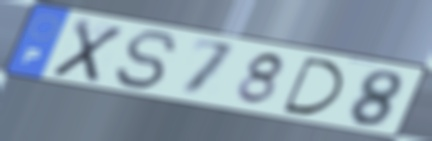7: (183, 36, 237, 99)
8: (349, 69, 405, 129), (232, 52, 285, 107)
D: (280, 54, 347, 117)
S: (112, 28, 180, 92)
X: (48, 16, 127, 85)
